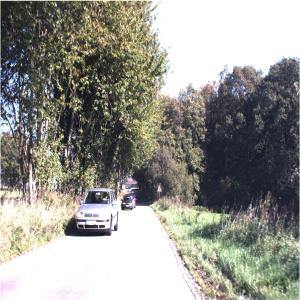bend: (158, 186, 163, 193)
